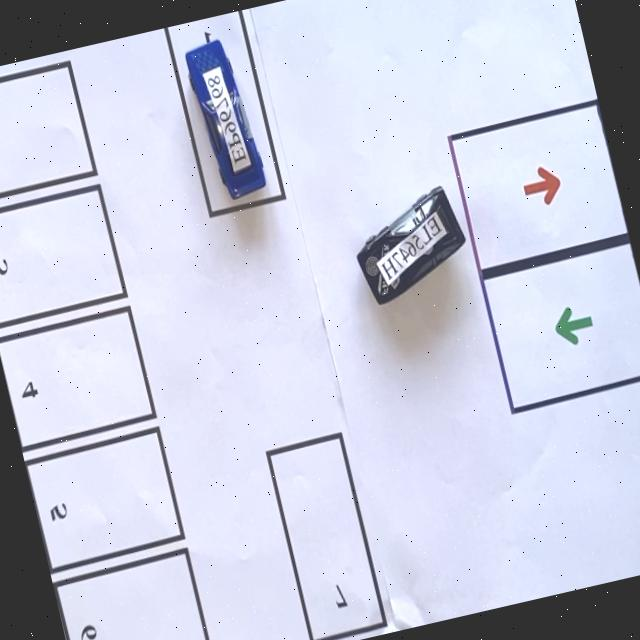car: (185, 33, 264, 199), (357, 189, 464, 304)
